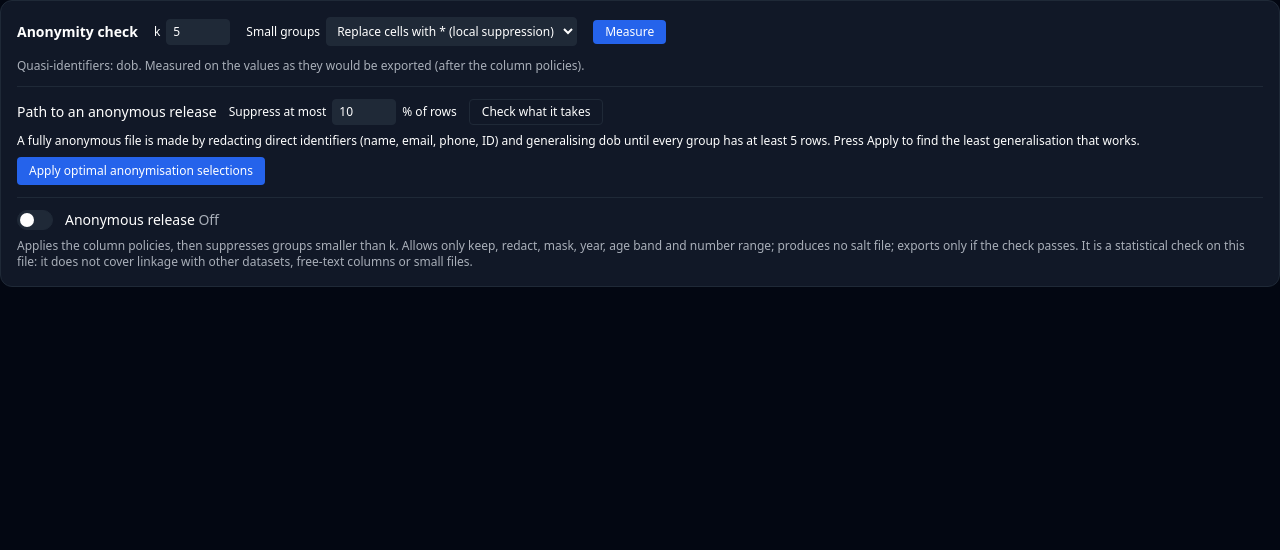
Test: path to an anonymous release › Apply plans on click, redacts email/phone even when masked, and measures again to success
Click the button "Apply optimal anonymisation selections" at (141, 171), box [17, 157, 265, 185]
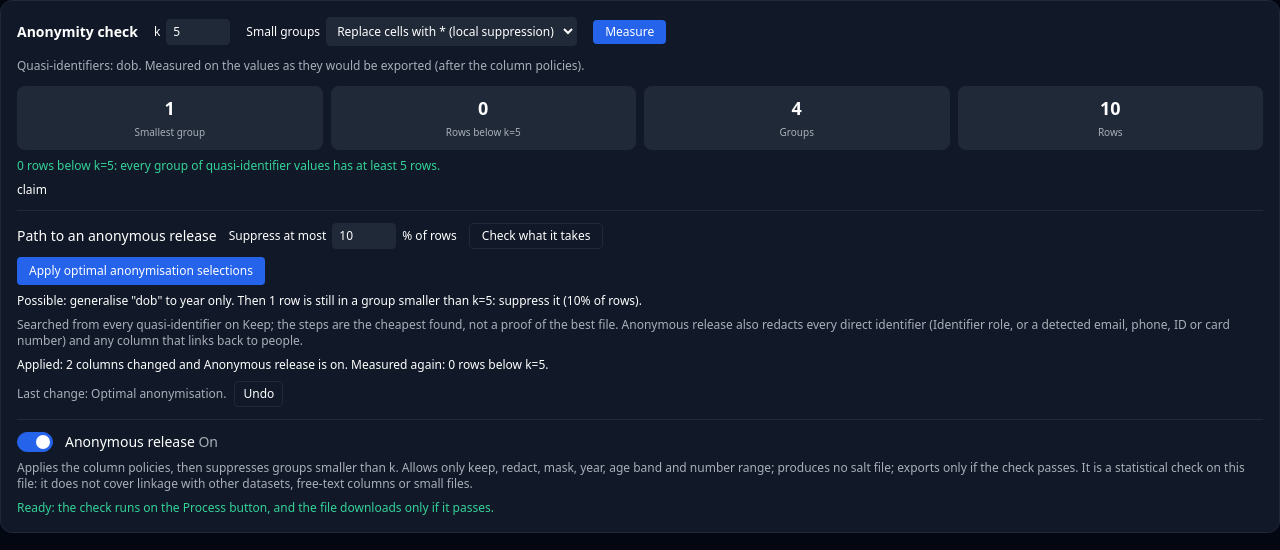
Check: the text with test id "anonymity-success" is shown, box [17, 157, 440, 174]
